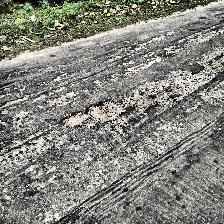pothole: (84, 99, 125, 121), (124, 91, 156, 111), (63, 111, 89, 125), (206, 51, 224, 70)
